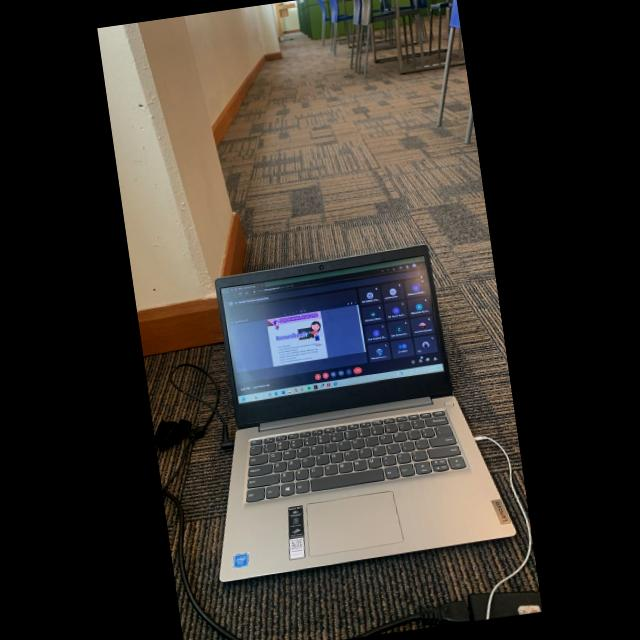laptop: (216, 246, 514, 582)
